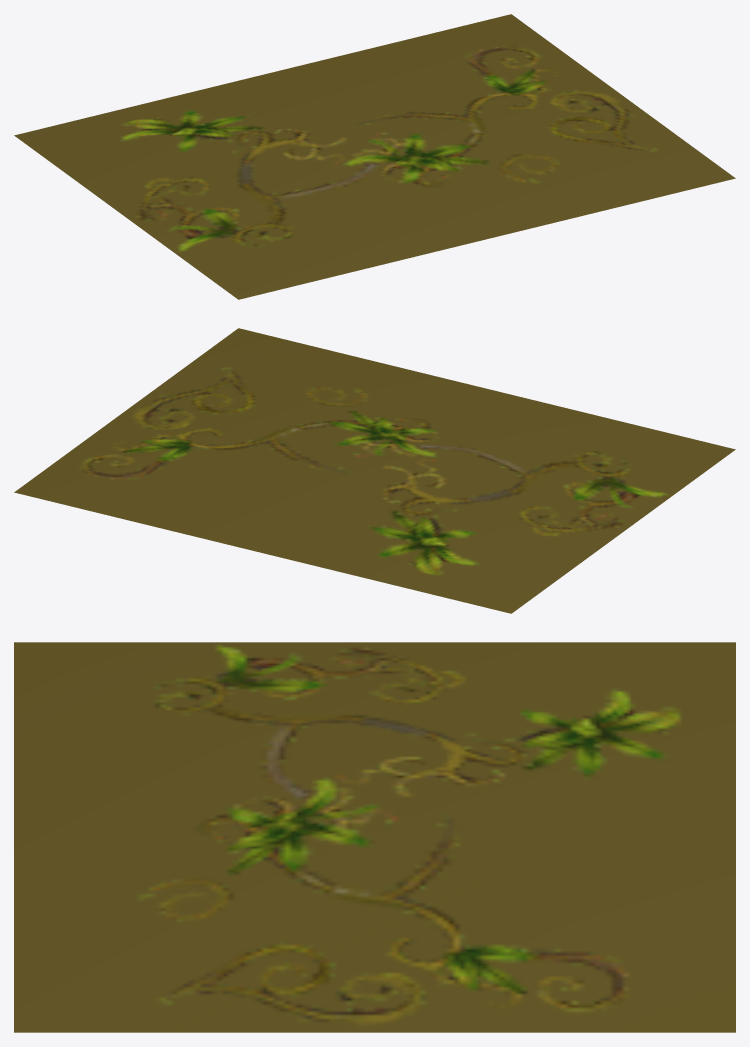
Rendered from guan_mu_005.FBX.
3 renders of one model, top to bottom at view 1: azimuth 30°, elevation 25°; view 2: azimuth 150°, elevation 25°; view 3: azimuth 270°, elevation 25°, orthographic. The views are drawn at different scales.
Parts seen in each view (by area): view 1: guan_mu_005; view 2: guan_mu_005; view 3: guan_mu_005.
Boxes of the visible parts, box(x1,y1,x2,y2) form: guan_mu_005: box(14, 14, 735, 299); guan_mu_005: box(14, 328, 735, 613); guan_mu_005: box(14, 642, 735, 1032).
Size of the model in its own units: 268 by 9.11 by 210.
